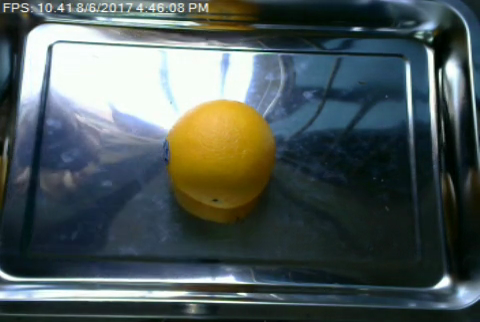Orange: (162, 99, 277, 210)
